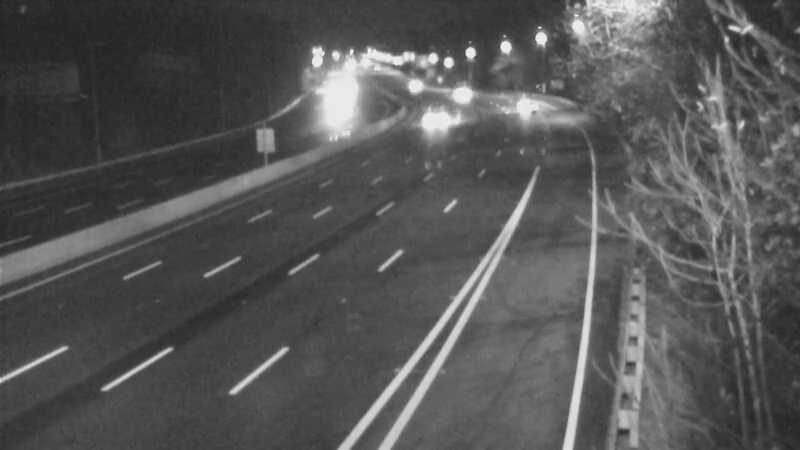vehicle: (386, 56, 436, 106), (431, 69, 481, 119), (503, 79, 553, 129), (410, 93, 460, 143), (307, 82, 357, 132)
